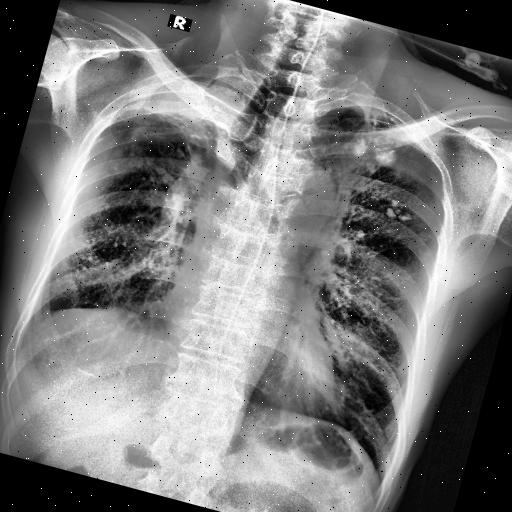0- Aortic enlargement: (256, 148, 352, 234), (264, 154, 340, 242)
1- Atelectasis: (112, 46, 260, 138), (122, 51, 256, 149)
11- Pleural thickening: (112, 54, 260, 153), (347, 98, 439, 152), (13, 298, 62, 352), (349, 100, 399, 125)
13- Pulmonary fibrosis: (101, 100, 227, 204), (111, 96, 226, 184), (108, 103, 212, 195), (346, 114, 405, 180), (383, 196, 415, 223), (385, 198, 418, 224)
2- Calcification: (346, 114, 405, 180), (383, 196, 415, 223)
8- Nodule-Mass: (344, 136, 401, 180), (382, 196, 418, 224), (370, 144, 400, 166), (353, 137, 369, 157)
